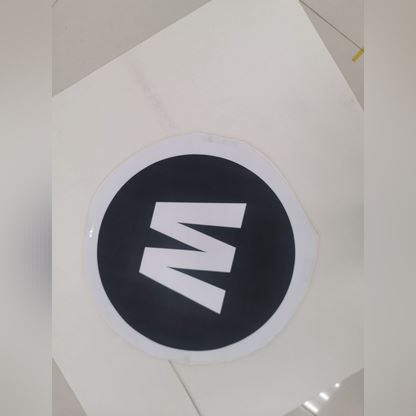W: (109, 163, 296, 343)
